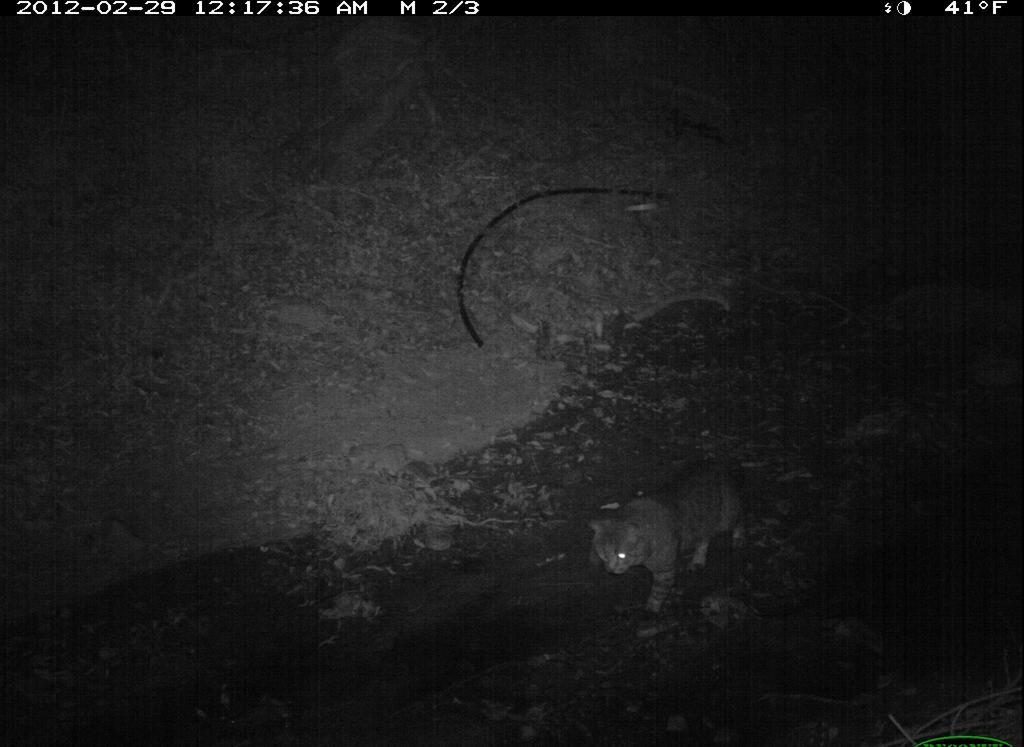cat: (585, 450, 774, 619)
